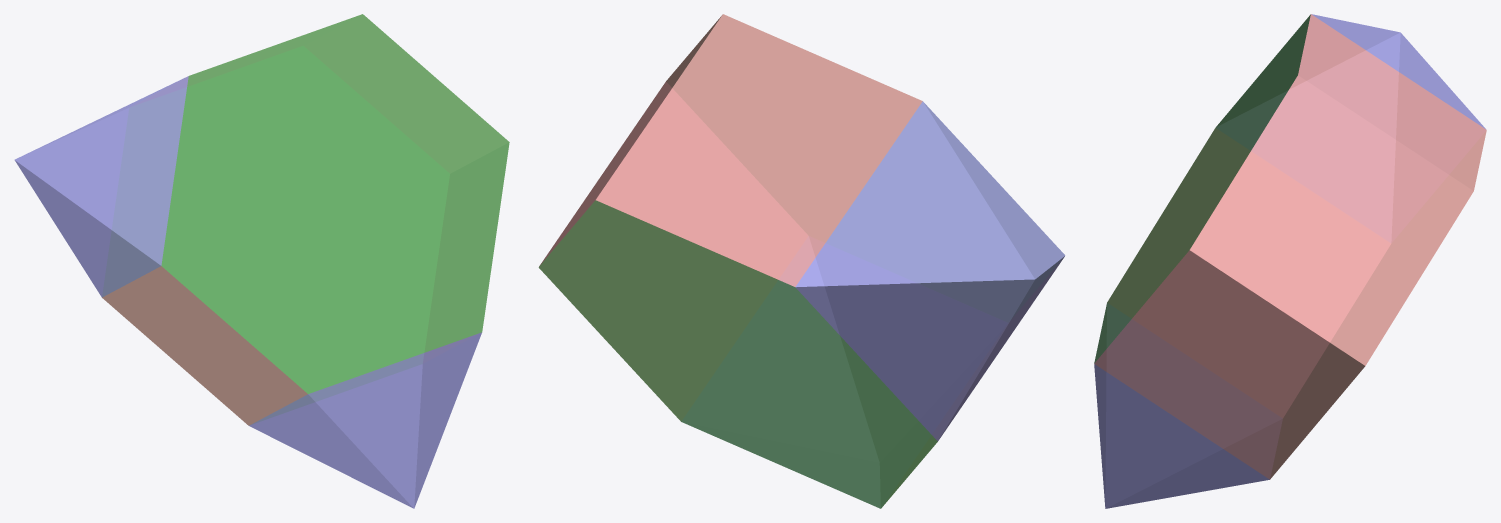
File: j56_metabiaugmented_hexagonal_prism.obj
3 views of the same model, side by side, from view 1: azimuth 30°, elevation 25°; view 2: azimuth 150°, elevation 25°; view 3: azimuth 270°, elevation 25° (orthographic). The views are drawn at different scales.
Size of the model in its own units: 2.07 by 1.99 by 1.56.
